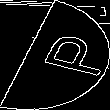P_W: (11, 29, 99, 81)
